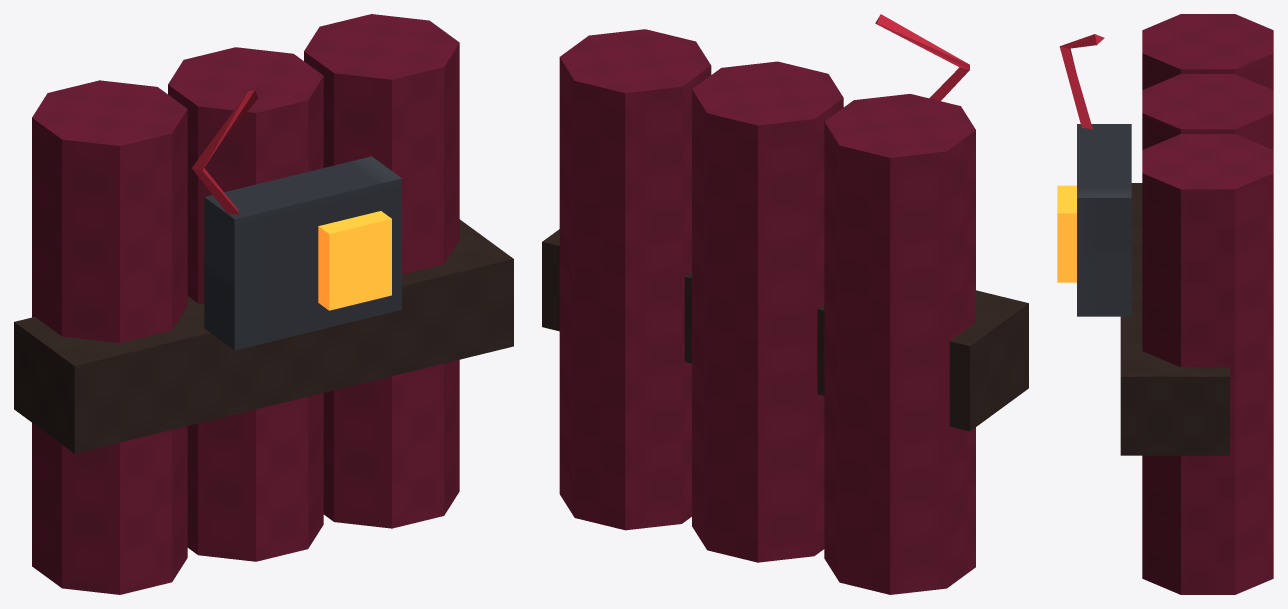
Rendered from SM_Prop_SaboteurCharge_HQ.glb.
3 renders of one model, left to right at view 1: azimuth 30°, elevation 25°; view 2: azimuth 150°, elevation 25°; view 3: azimuth 270°, elevation 25°, orthographic. The views are drawn at different scales.
Visible parts, largest first — view 1: SM_Prop_SaboteurCharge_HQ; view 2: SM_Prop_SaboteurCharge_HQ; view 3: SM_Prop_SaboteurCharge_HQ.
Part boxes in pixels (left/top/right/bottom): SM_Prop_SaboteurCharge_HQ: left=14, top=14, right=513, bottom=594; SM_Prop_SaboteurCharge_HQ: left=542, top=14, right=1028, bottom=594; SM_Prop_SaboteurCharge_HQ: left=1057, top=14, right=1273, bottom=594.
Size of the model in its own units: 0.42 by 0.4546 by 0.1981.
Materials: 1 (1 with a texture image).
